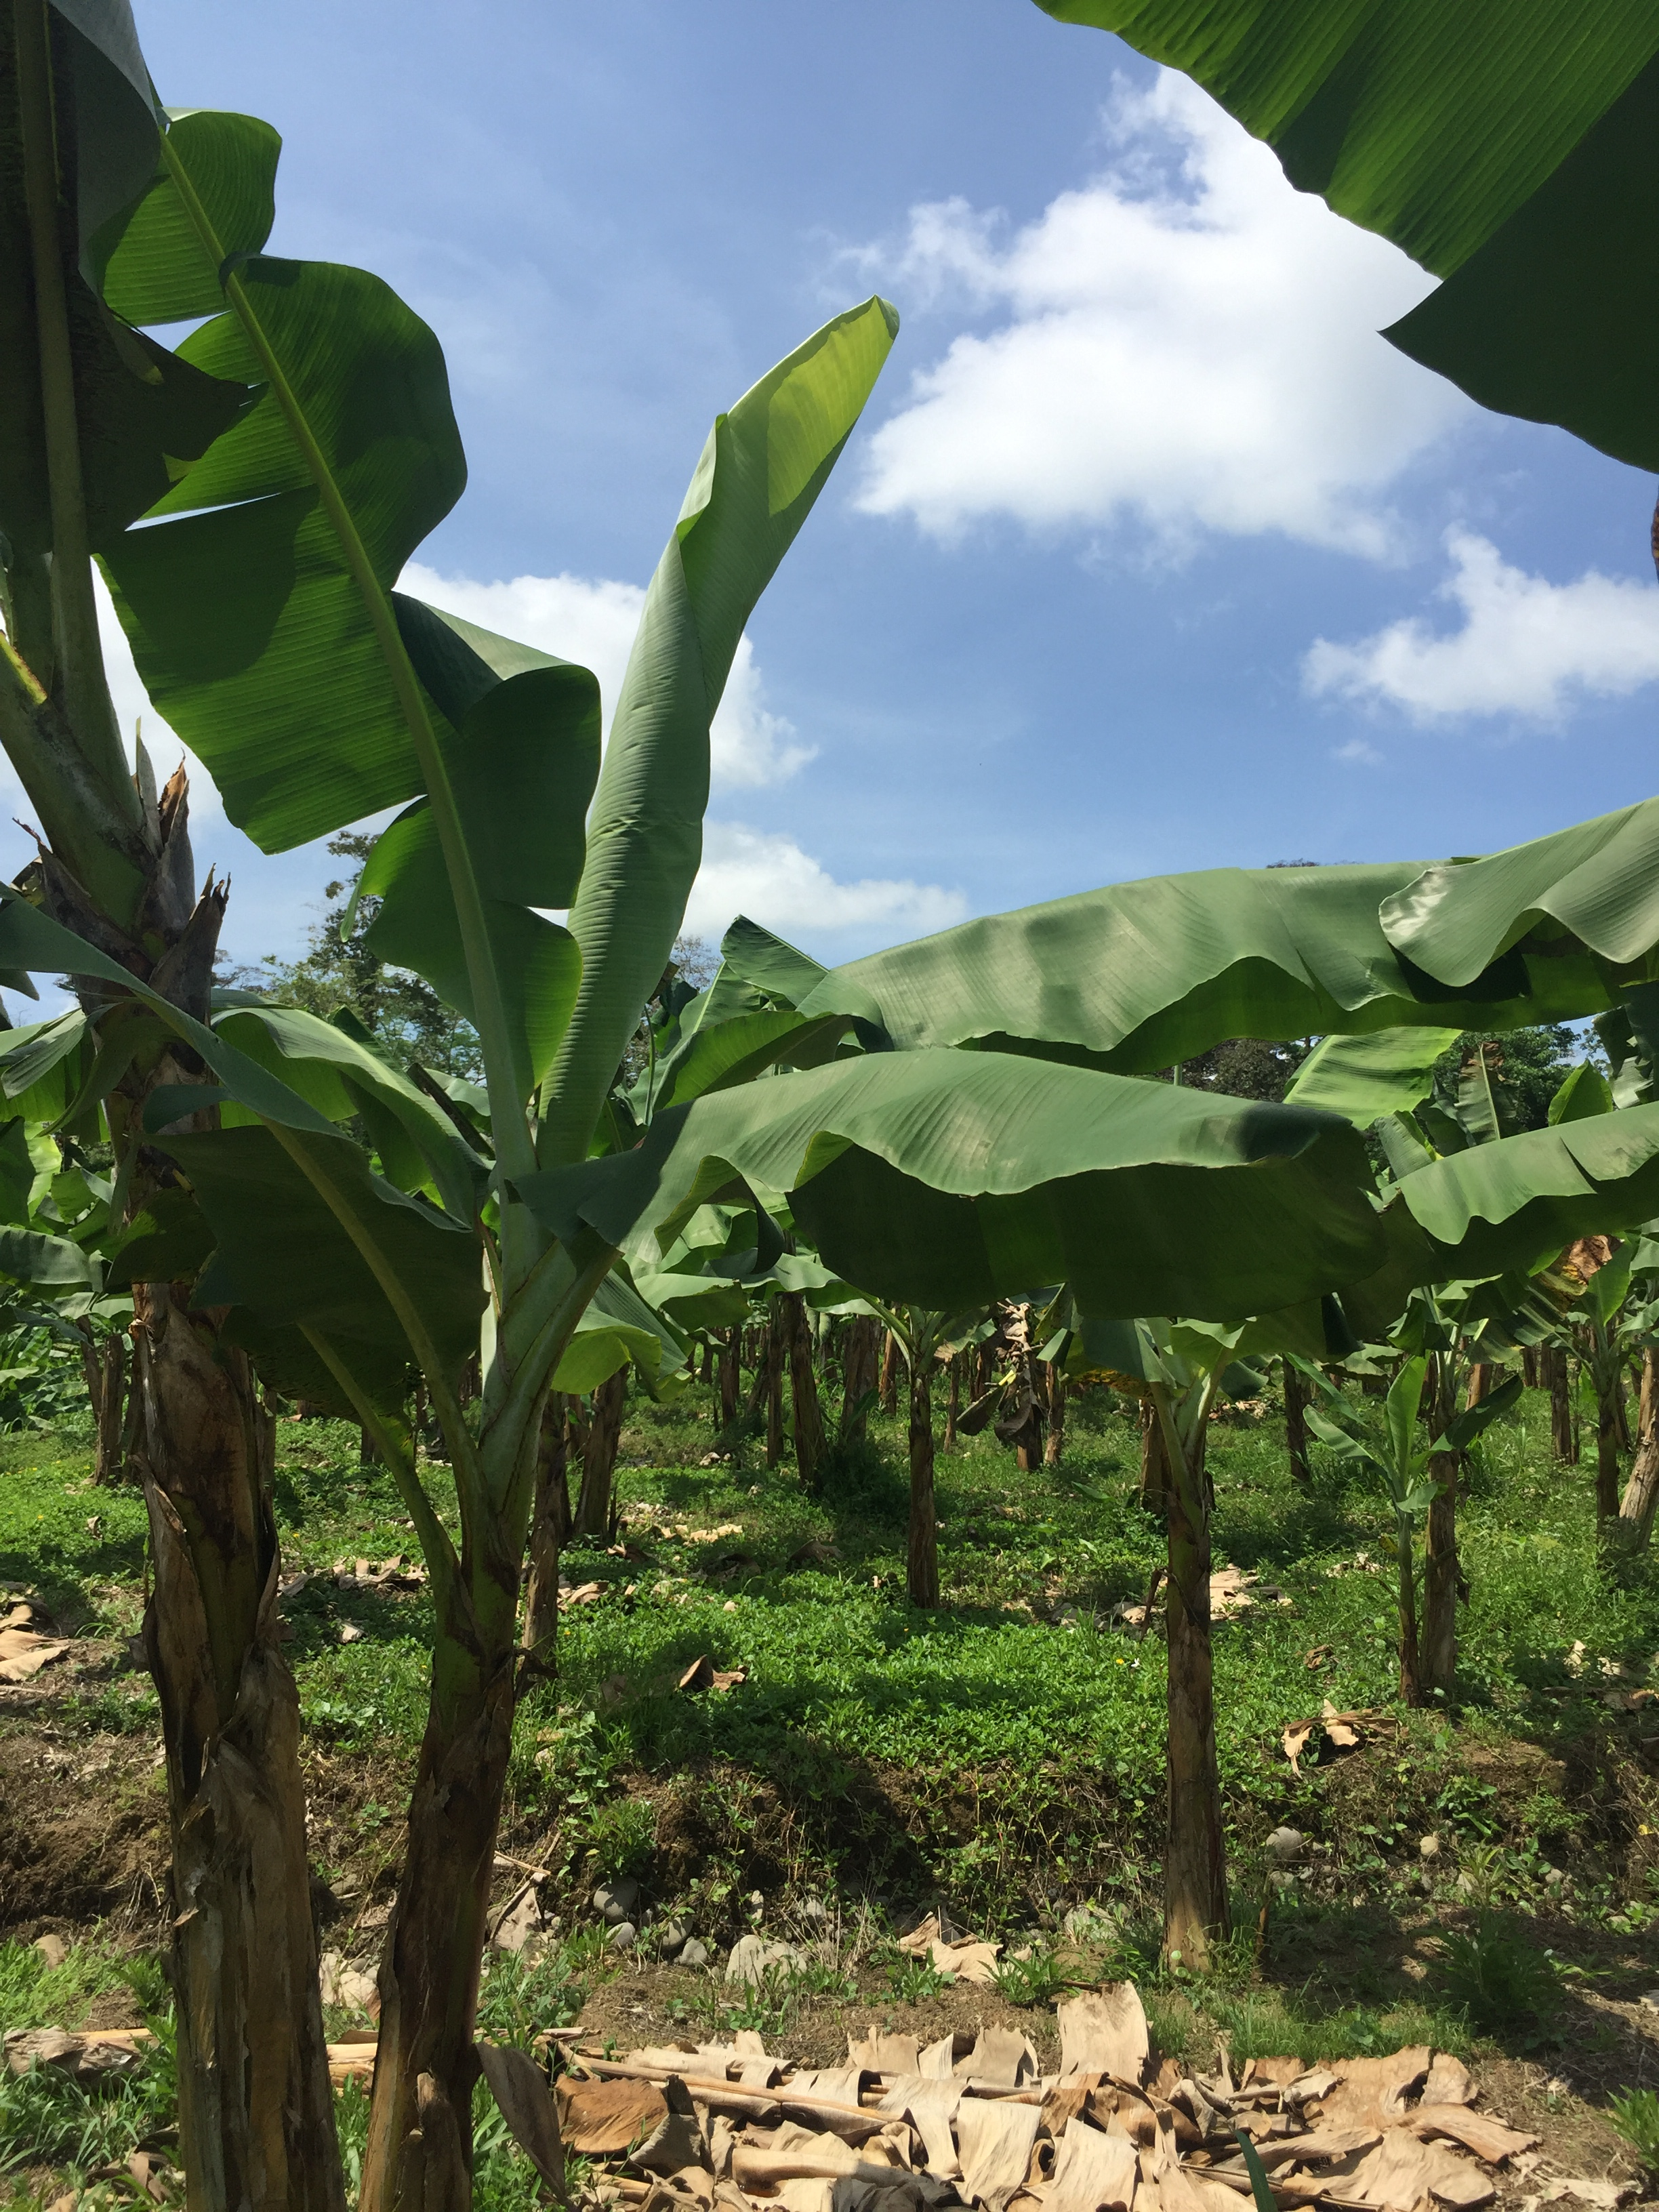candleleafs: (537, 298, 899, 1155)
